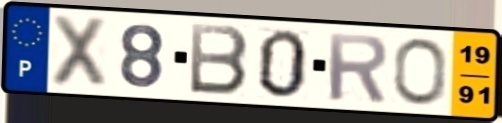0: (256, 27, 312, 101)
8: (118, 22, 167, 89)
B: (187, 21, 252, 98)
O: (390, 36, 449, 108)
R: (325, 30, 391, 104)
X: (48, 13, 110, 92)
